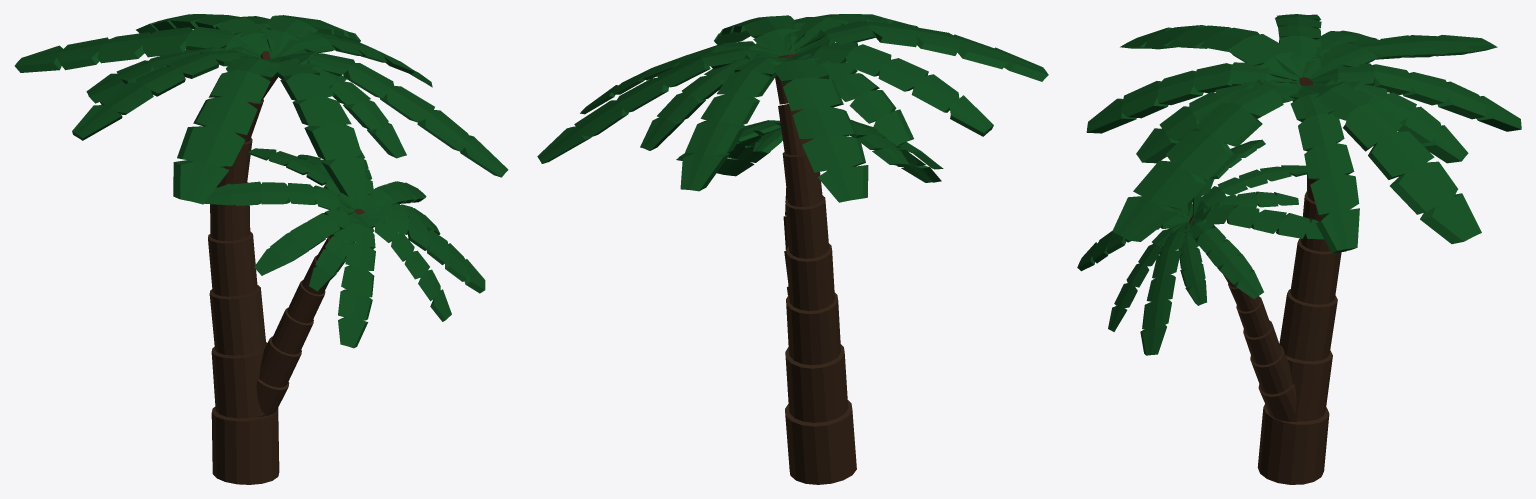
Rendered from palma1.fbx.
3 views of the same model, side by side, from view 1: azimuth 30°, elevation 25°; view 2: azimuth 150°, elevation 25°; view 3: azimuth 270°, elevation 25° (orthographic). The views are drawn at different scales.
Visible parts, largest first — view 1: palma1; view 2: palma1; view 3: palma1.
Boxes of the visible parts, left/top/right/bottom form: palma1: left=14, top=14, right=508, bottom=484; palma1: left=537, top=14, right=1048, bottom=484; palma1: left=1077, top=14, right=1521, bottom=484.
Size of the model in its own units: 1263 by 1374 by 1310.
